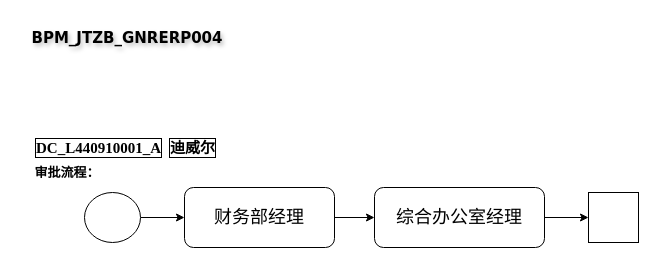
Image size: 656x265. Some labels were removed from this diagram. Here are the shapes that lost their labels. From the top down, the centre of each, then its label:
the point at 112,217: 开始
the point at 613,217: 结束
